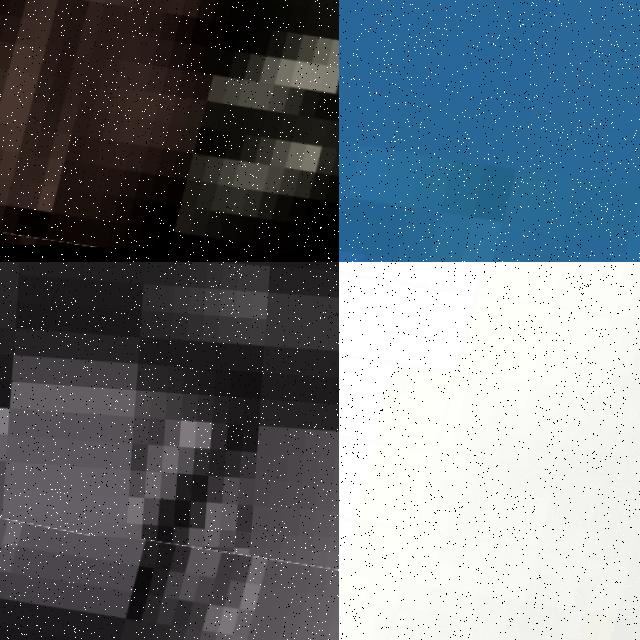0: (0, 0, 339, 262), (0, 526, 339, 640)
drone: (339, 262, 640, 640), (339, 0, 640, 262)
